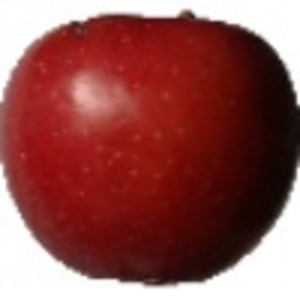maçã braeburn: (1, 9, 298, 292)
